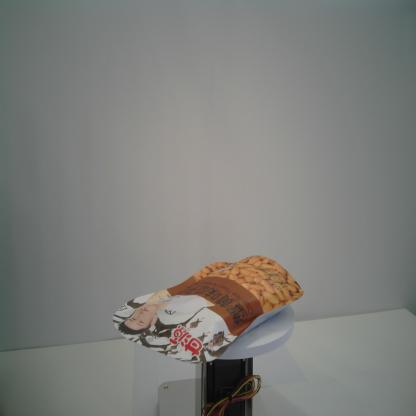Dried Fruit: (113, 254, 305, 366)
